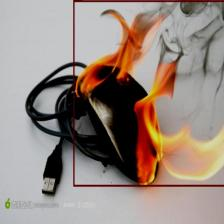fire: (73, 0, 224, 186)
